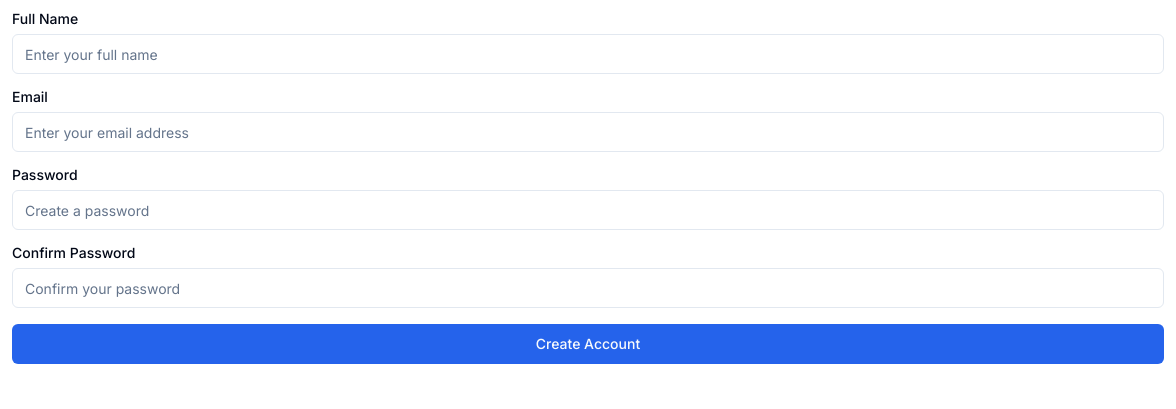
Test: RegistrationForm › should show validation error for mismatched passwords
Note: Fill form with mismatched passwords
Type "John Doe" into the field labelled "Full Name" at point(588, 54), box x1=12 y1=34 x2=1164 y2=74
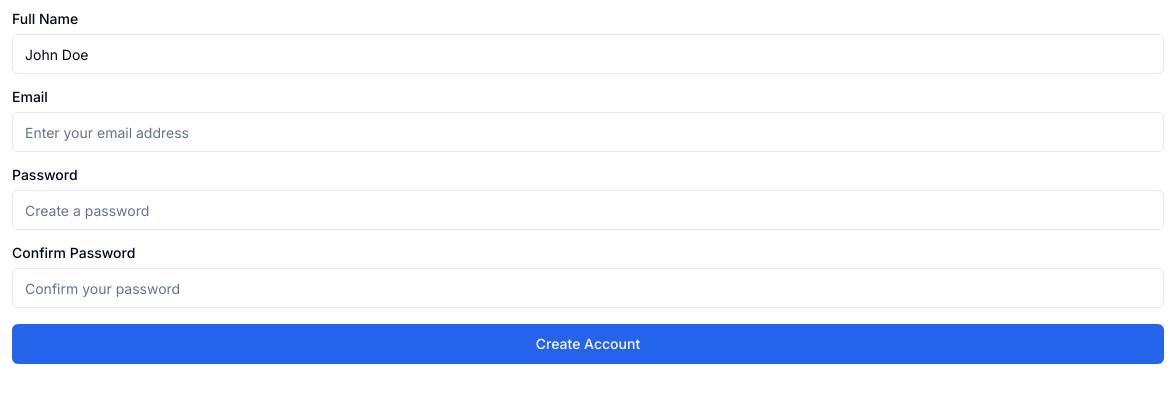
Type "john@example.com" into the field labelled "Email" at point(588, 132), box x1=12 y1=112 x2=1164 y2=152
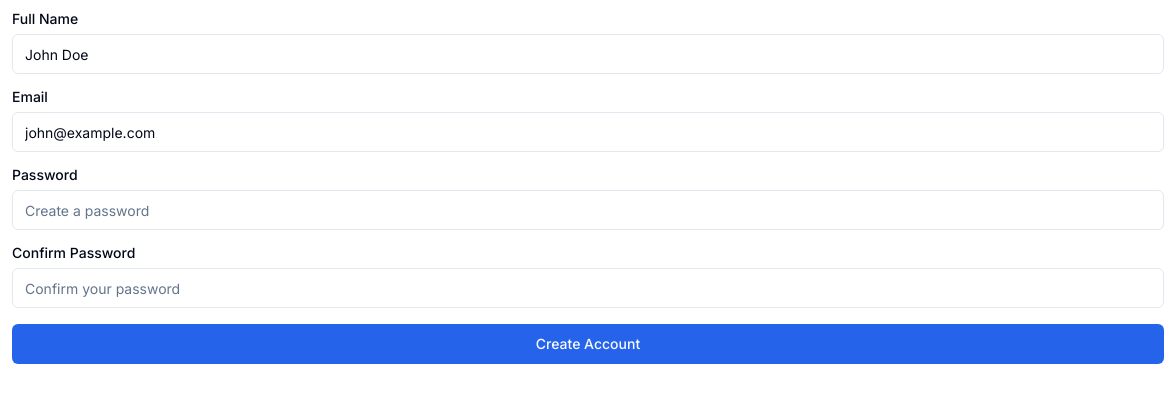
Type "StrongPass123" into the password field labelled "Password" at point(588, 210), box x1=12 y1=190 x2=1164 y2=230
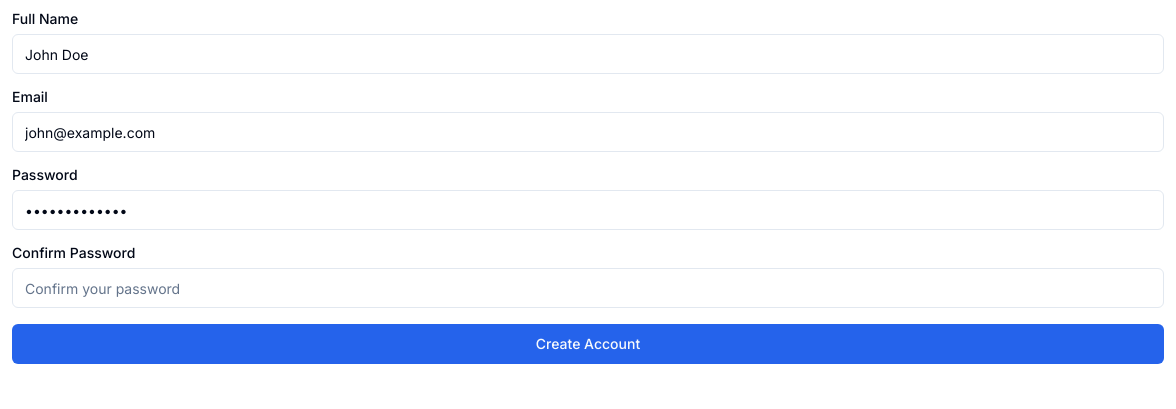
Type "DifferentPass123" into the password field labelled "Confirm Password" at point(588, 288), box x1=12 y1=268 x2=1164 y2=308
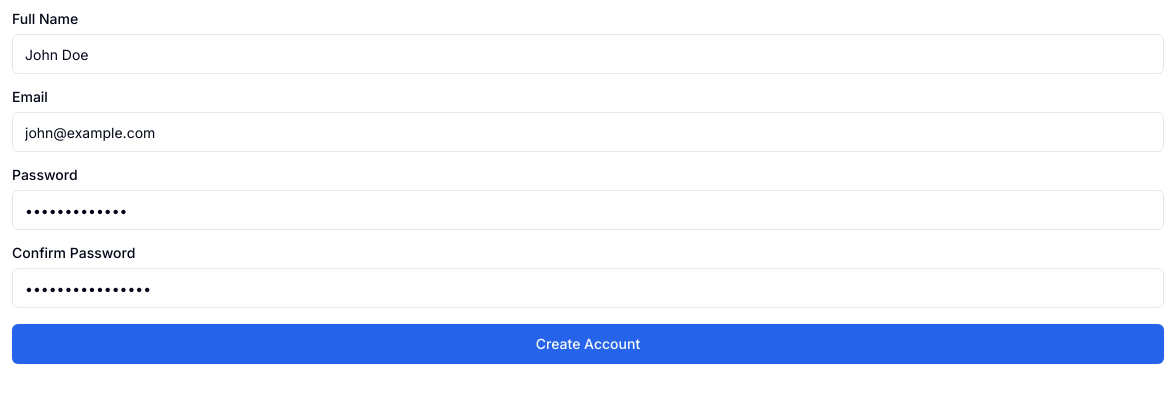
Click the button "Create Account" at point(588, 344), box x1=12 y1=324 x2=1164 y2=364
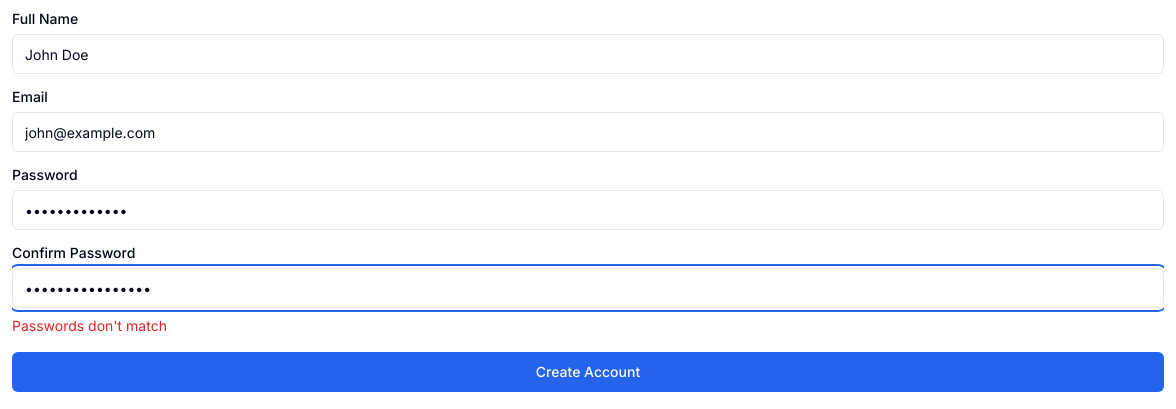
Expected: the text "Passwords don't match" is shown, x1=12 y1=317 x2=167 y2=334
